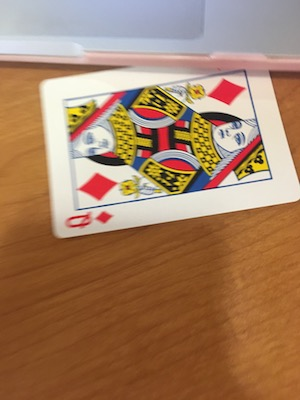QueenOfDiamonds: (34, 48, 300, 245)
